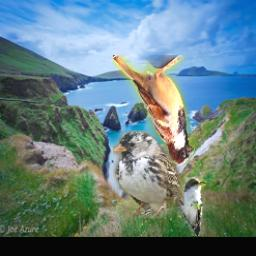Cuckoo: (179, 177, 207, 236)
Sparrow: (114, 55, 196, 166), (114, 131, 186, 220)
